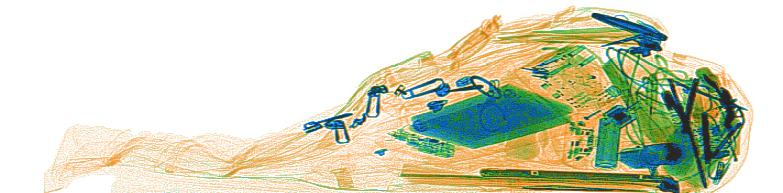battery: (594, 115, 622, 170)
